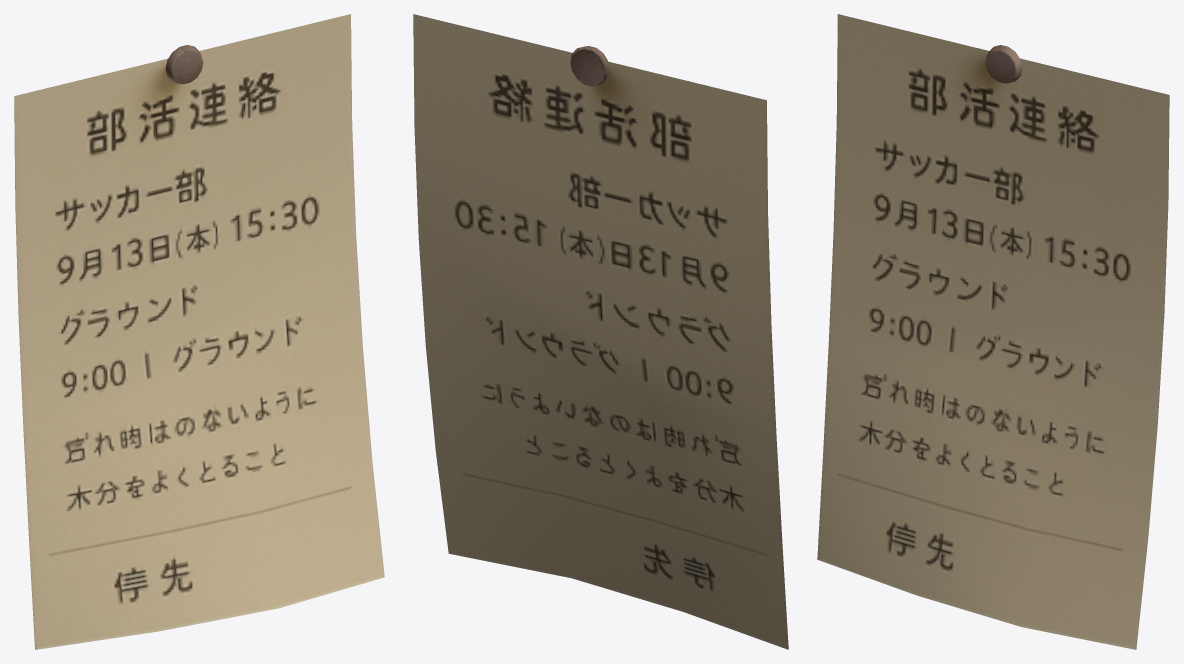
The model's file is SM_notice_001.fbx.
3 views of the same model, side by side, from view 1: azimuth 30°, elevation 25°; view 2: azimuth 150°, elevation 25°; view 3: azimuth 330°, elevation 25° (orthographic). The views are drawn at different scales.
Visible parts, largest first — view 1: notices06; view 2: notices06; view 3: notices06.
Boxes of the visible parts, x1,y1,x2,y2 form: notices06: (14, 14, 384, 649); notices06: (413, 14, 788, 649); notices06: (817, 14, 1169, 649).
Size of the model in its own units: 9.91 by 15.4 by 2.05.
Materials: 1 (1 with a texture image).
